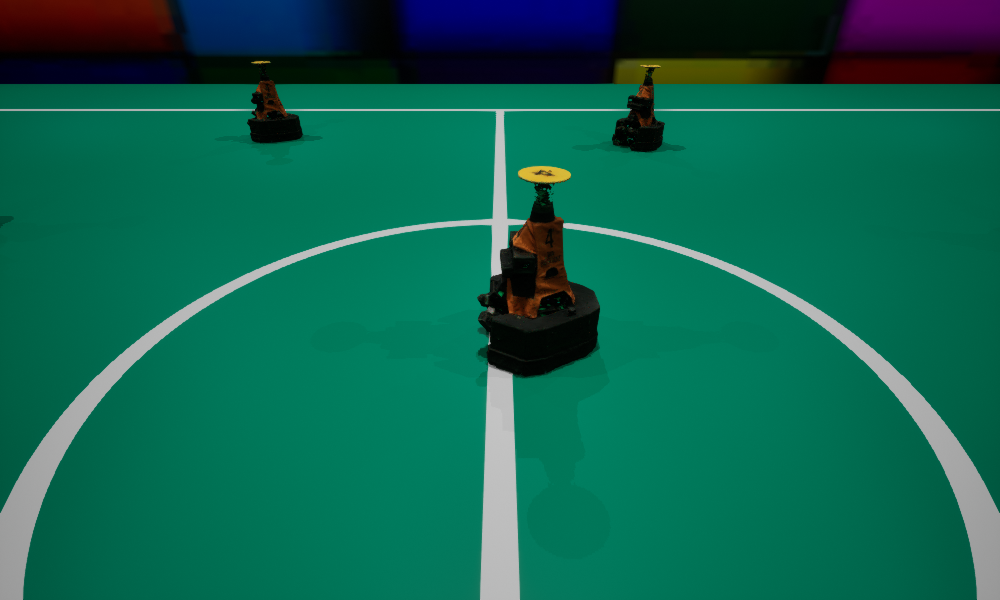o: (477, 166, 599, 376), (247, 61, 302, 142), (612, 65, 664, 150)
